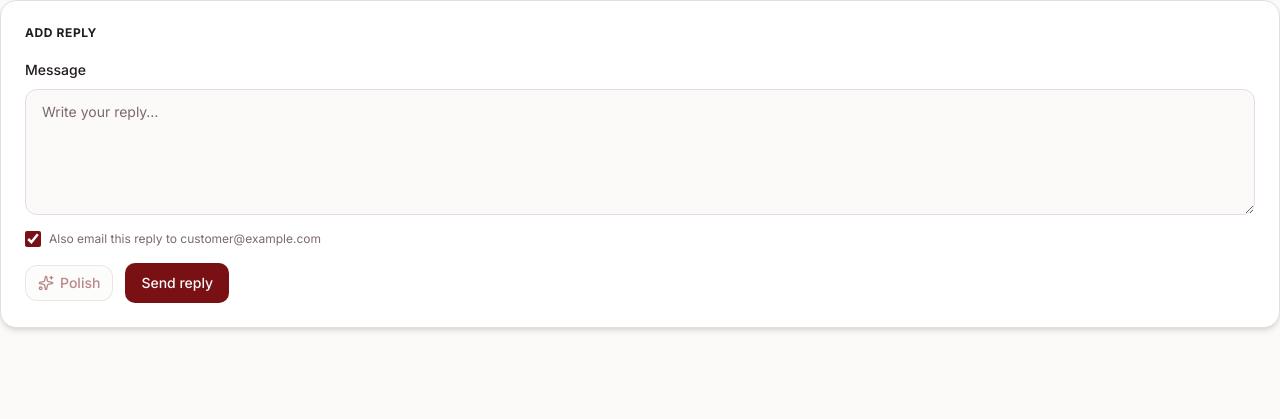
ReplyForm › shows API error message when POST fails
Type "Hello there." into the text box labelled "Message". click: (640, 152)
box: 25,89 -> 1255,215
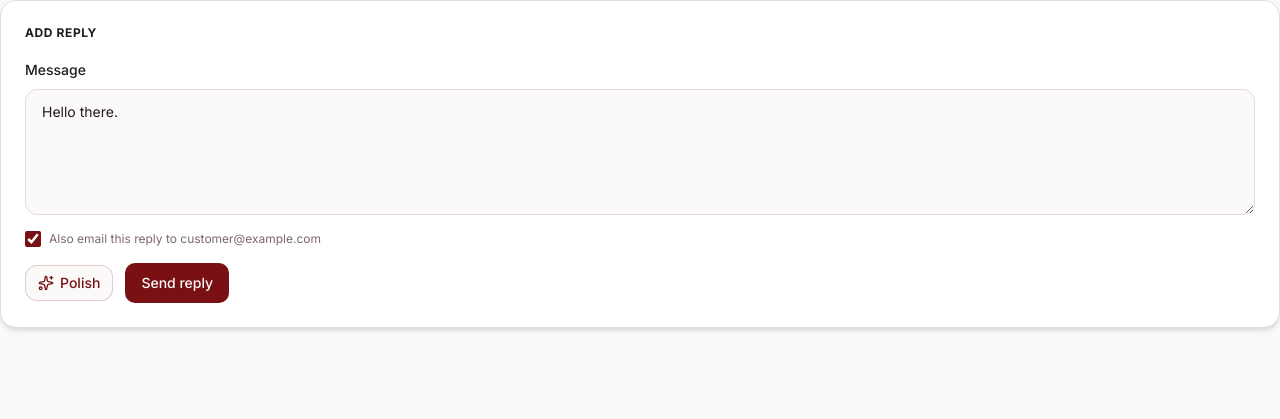
Click the button "Send reply". click: (177, 283)
box: 125,263 -> 229,303
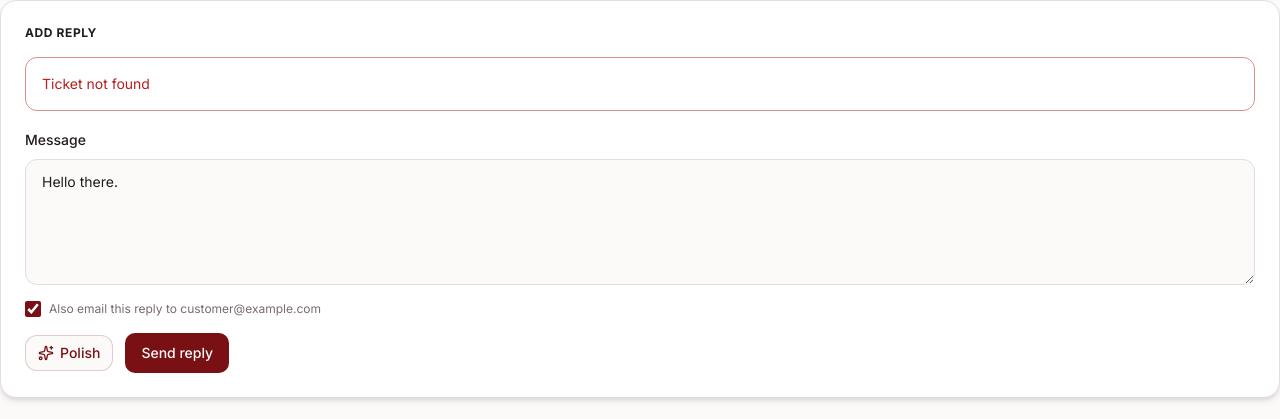
Now the text "Ticket not found" is shown, box 42,75 -> 150,92
